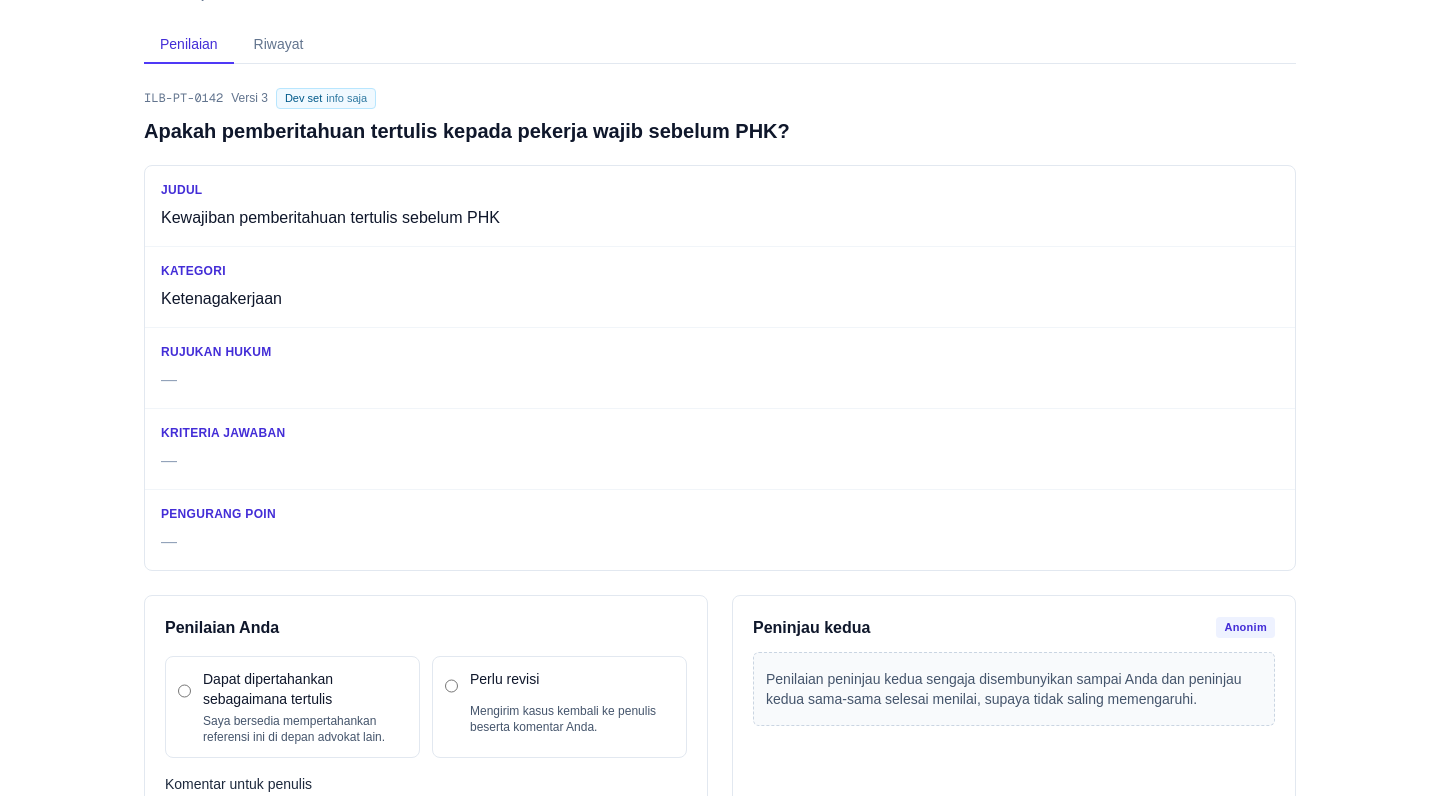
it: ReviewAssignmentPage › replaces the form with the sent verdict and waits for the other reviewer
The width and height of the screenshot is (1440, 796).
Click the radio button labelled "Dapat dipertahankan sebagaimana tertulis" at (184, 691), box [178,673,191,709]
(page scrolled)
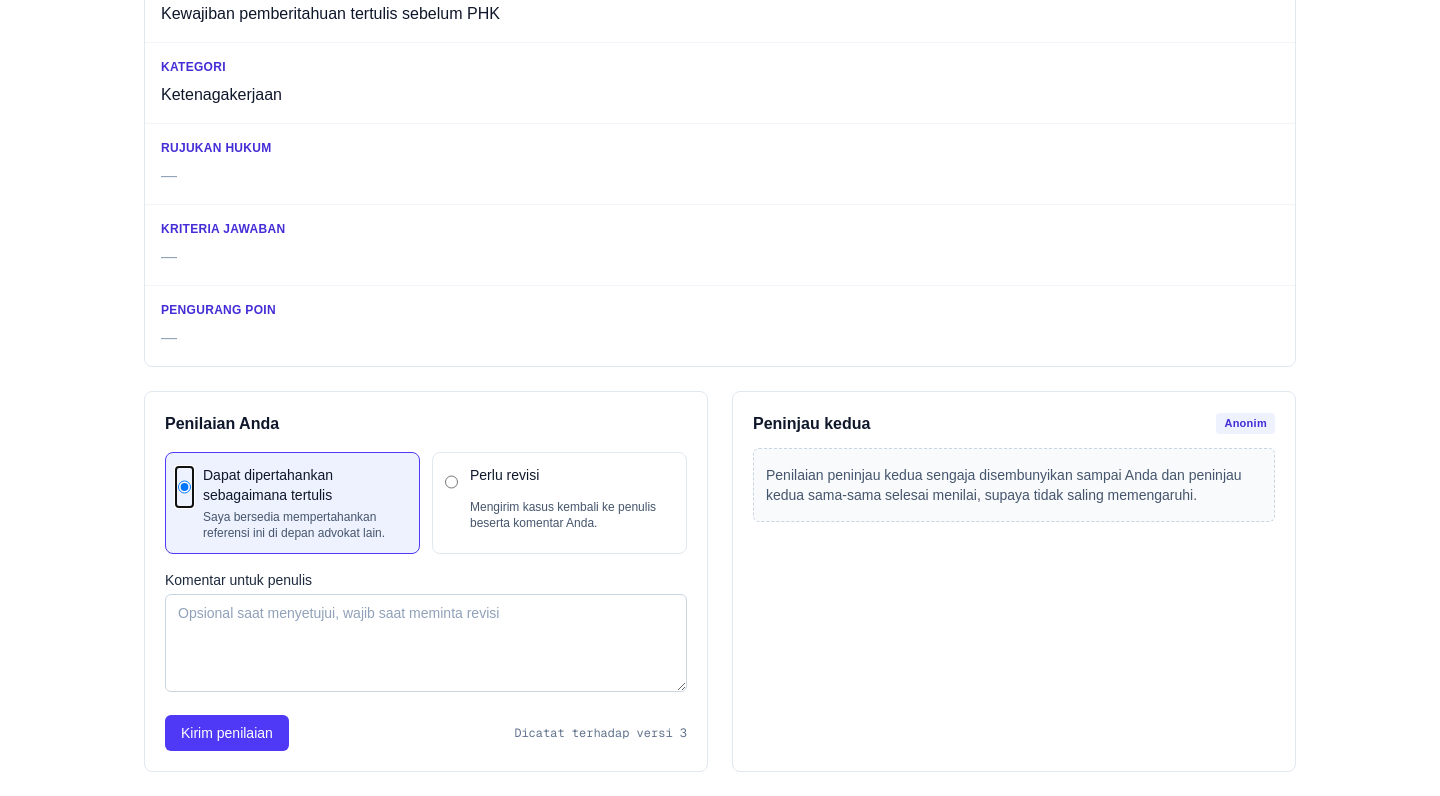
Click the button "Kirim penilaian" at (227, 733), box [165,715,289,751]
(page scrolled)
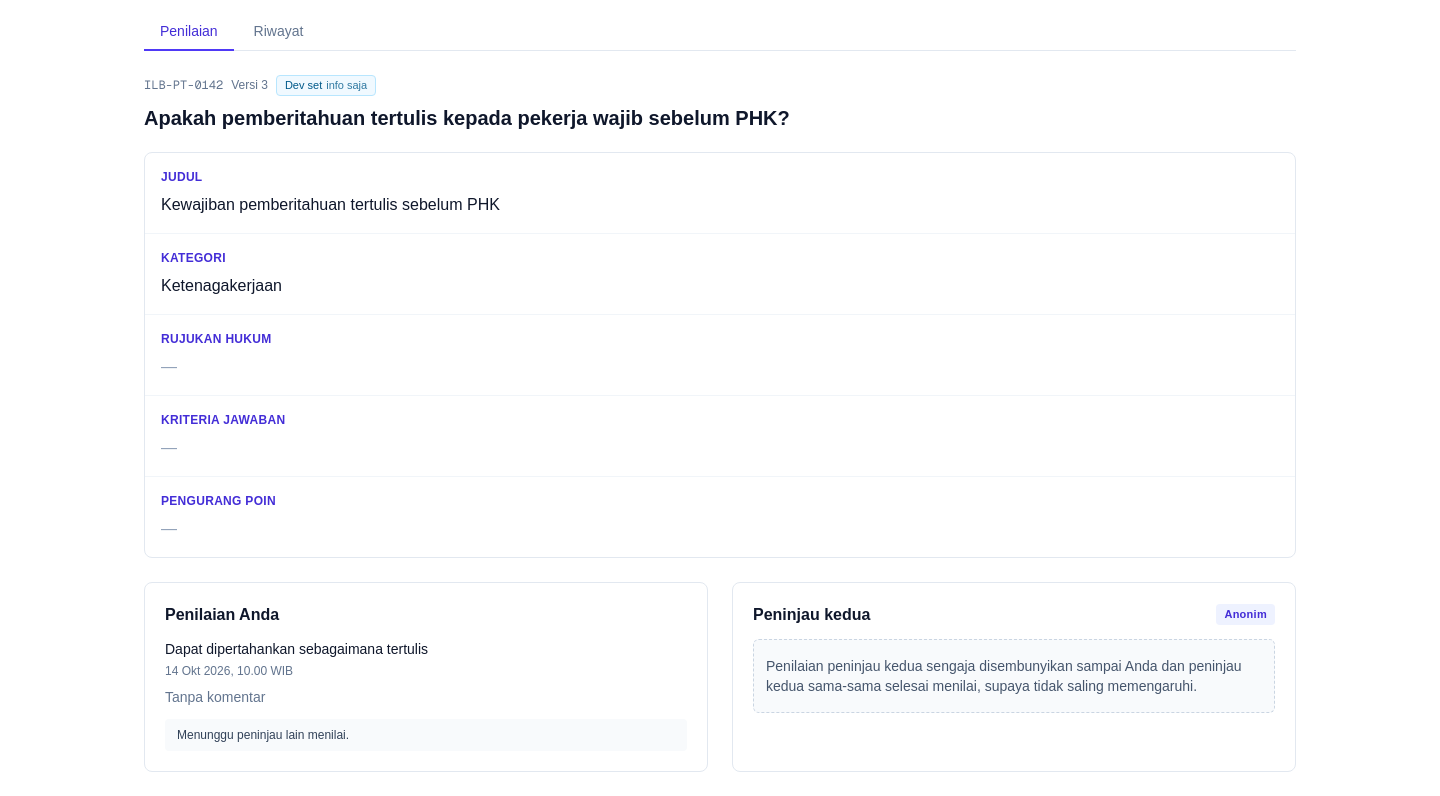
expect the text "Anonim" is shown: met, box [1216,604,1275,625]
expect the text "Menunggu peninjau lain menilai." is shown: met, box [165,719,687,751]
